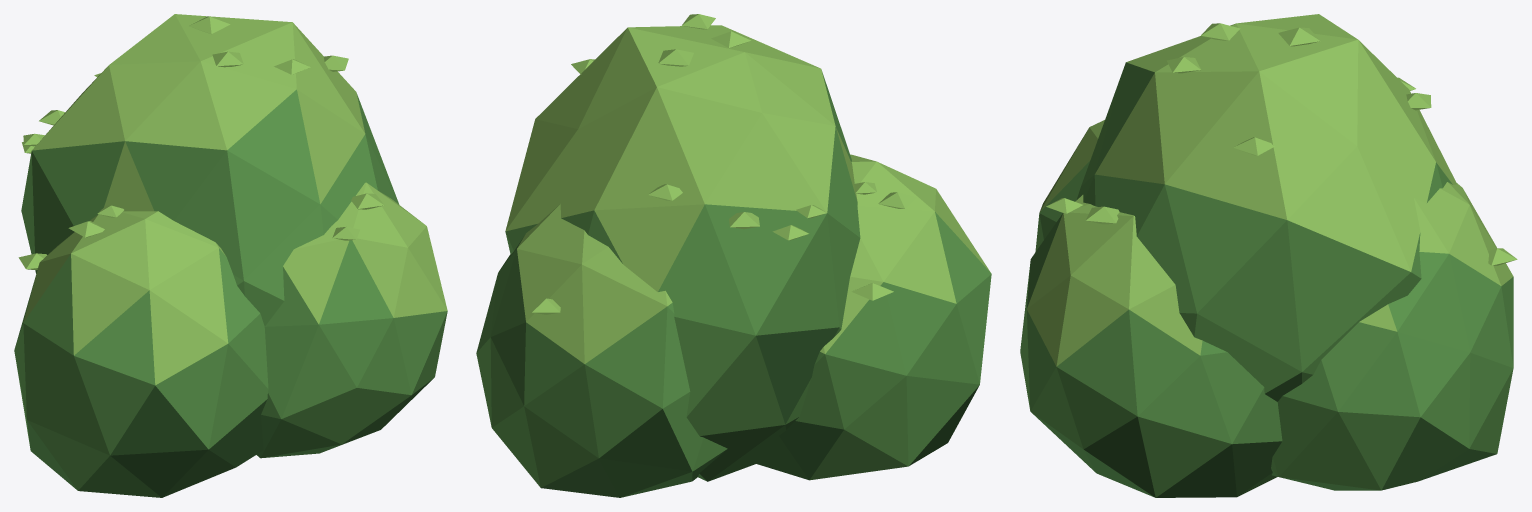
File: SC_Nat_Bush_Round_M.gltf
3 views of the same model, side by side, from view 1: azimuth 30°, elevation 25°; view 2: azimuth 150°, elevation 25°; view 3: azimuth 270°, elevation 25° (orthographic). The views are drawn at different scales.
Parts seen in each view (by area): view 1: SC_Nat_Bush_Round_M; view 2: SC_Nat_Bush_Round_M; view 3: SC_Nat_Bush_Round_M.
Boxes of the visible parts, x1,y1,x2,y2 form: SC_Nat_Bush_Round_M: (14, 14, 447, 497); SC_Nat_Bush_Round_M: (476, 14, 991, 497); SC_Nat_Bush_Round_M: (1020, 14, 1517, 497).
Size of the model in its own units: 1.07 by 0.9803 by 1.05.
Materials: 1 (1 with a texture image).
